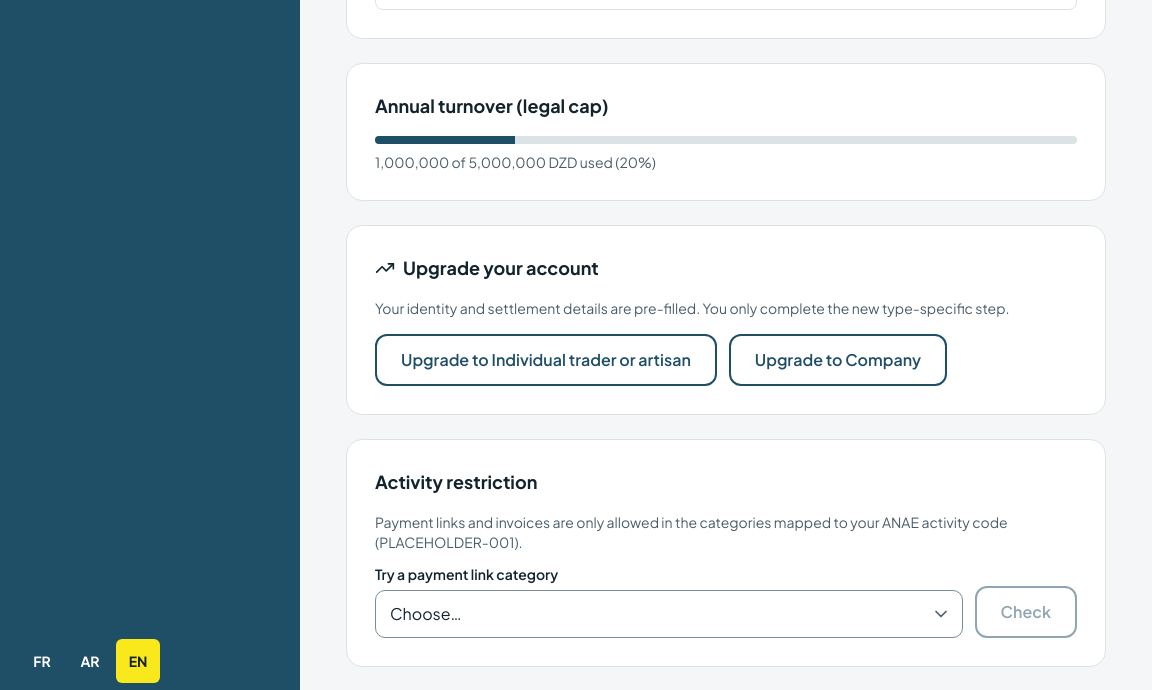
Test: upgrade path › Upgrade starts a pre-filled draft and opens the first step that still needs input
This screenshot has width=1152, height=690.
(page scrolled)
Step 1. Click the button "Upgrade to Individual trader or artisan" → click(546, 360), box [375,334,717,386]
(page scrolled)
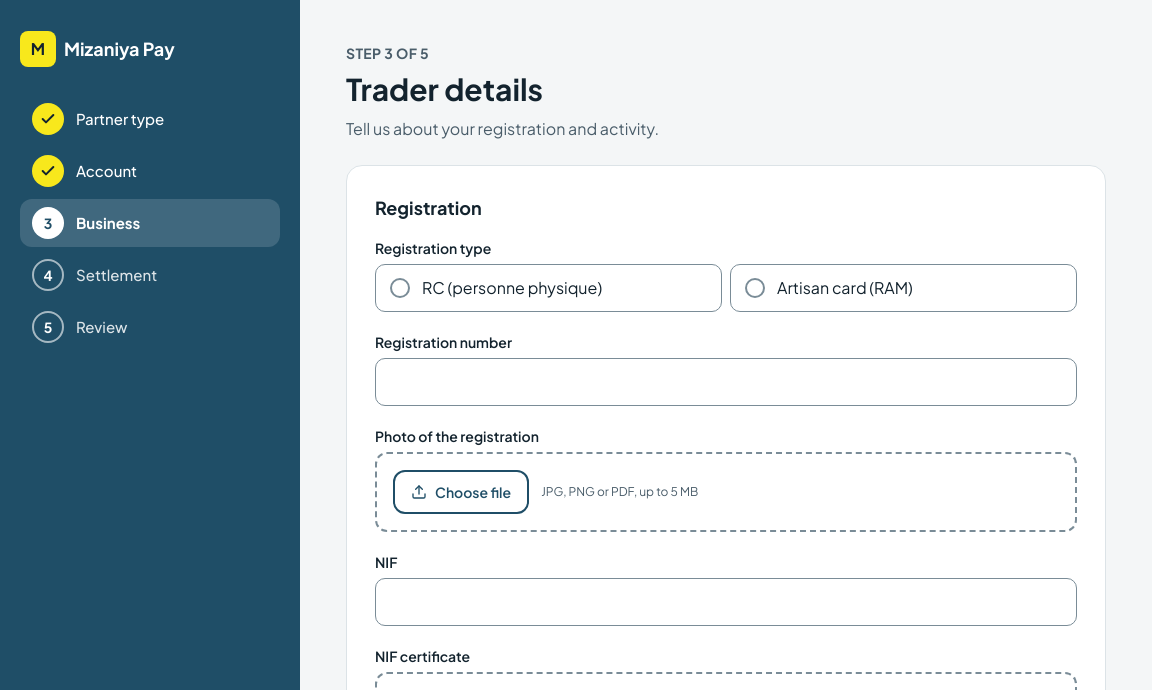
Now the heading "Trader details" is shown, box [346,70,543,108]
